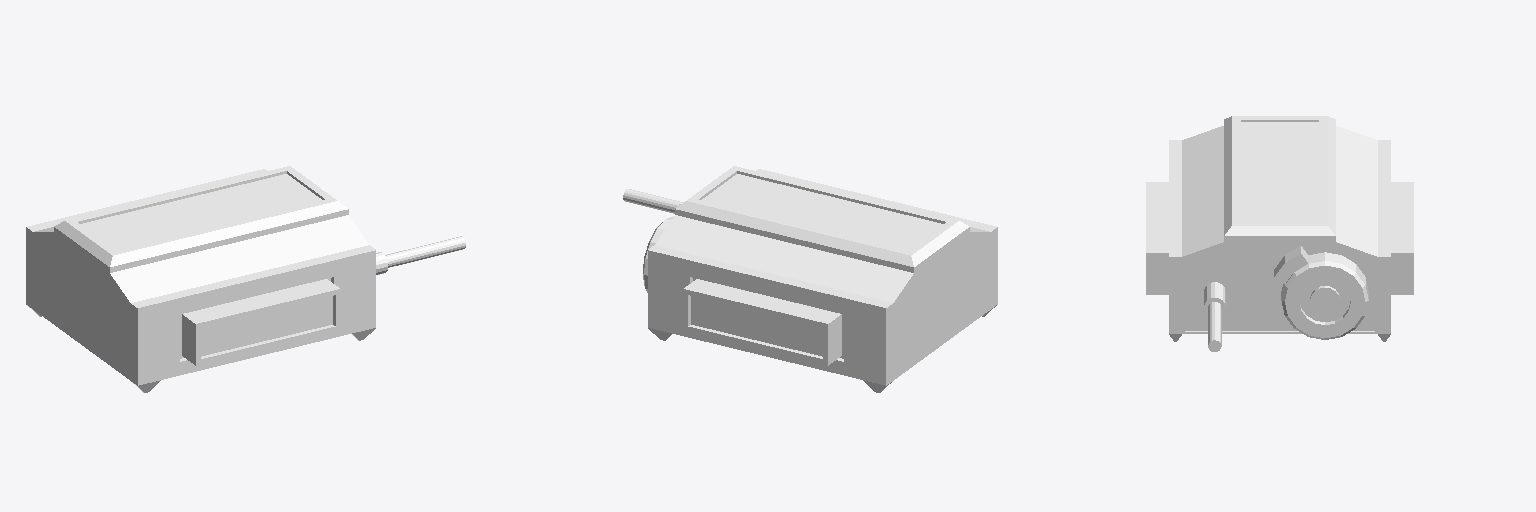
The model's file is throwablehacker.obj.
3 renders of one model, left to right at view 1: azimuth 30°, elevation 25°; view 2: azimuth 150°, elevation 25°; view 3: azimuth 270°, elevation 25°, orthographic.
Visible parts, largest first — view 1: Cube1, Cube4, Cylinder2_copy3; view 2: Cube1, Cube4, Cylinder2_copy3; view 3: Cube1, Cylinder2, Cube4, Cylinder2_copy3.
Boxes of the visible parts, x1=… form: Cube1: x1=26, y1=166, x2=375, y2=392; Cube4: x1=182, y1=279, x2=340, y2=365; Cylinder2_copy3: x1=376, y1=236, x2=465, y2=274; Cube1: x1=648, y1=166, x2=997, y2=392; Cube4: x1=683, y1=279, x2=841, y2=365; Cylinder2_copy3: x1=623, y1=189, x2=683, y2=213; Cube1: x1=1169, y1=116, x2=1390, y2=341; Cylinder2: x1=1274, y1=246, x2=1368, y2=339; Cube4: x1=1146, y1=182, x2=1413, y2=294; Cylinder2_copy3: x1=1204, y1=282, x2=1225, y2=351.
Bounding box in the file's own units: 3.01 × 0.9673 × 2.